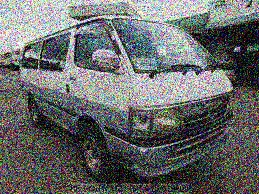van: (20, 18, 240, 174)
